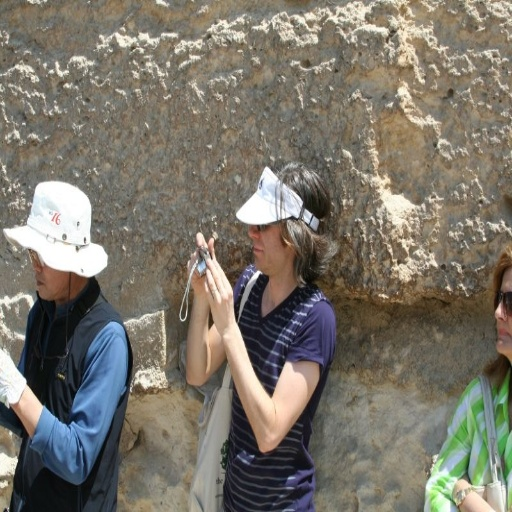hand: (195, 248, 232, 327), (184, 229, 215, 300), (0, 344, 21, 400)
